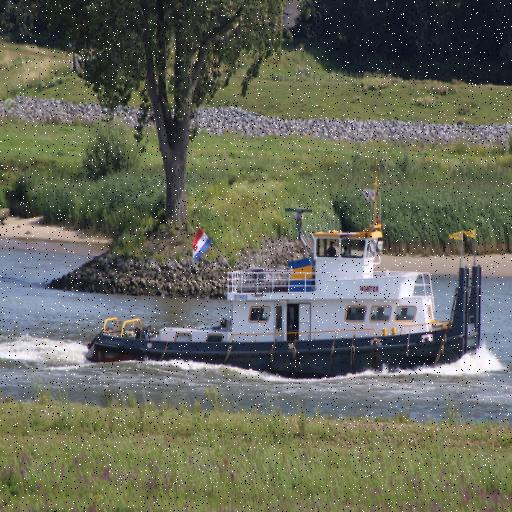tugboat: (84, 205, 485, 385)
